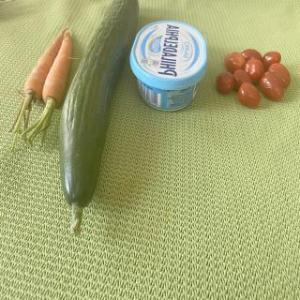carrot: (11, 18, 71, 139), (28, 20, 71, 158)
cucumber: (41, 0, 147, 259)
tomato: (214, 38, 295, 121)
